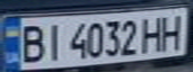0: (84, 19, 106, 58)
2: (118, 16, 142, 56)
3: (103, 17, 124, 57)
4: (66, 19, 87, 60)
B: (15, 21, 48, 64)
H: (157, 11, 190, 52), (139, 14, 169, 53)
I: (42, 20, 66, 62)
